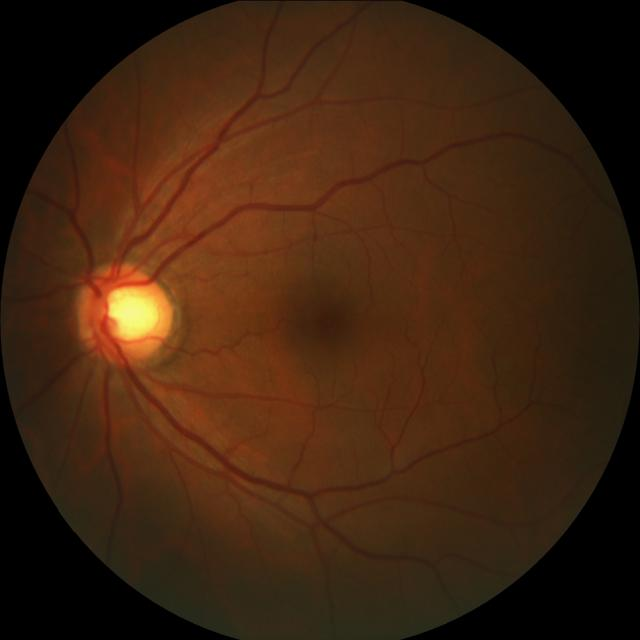OC: (101, 284, 161, 342)
OD: (77, 260, 175, 364)
